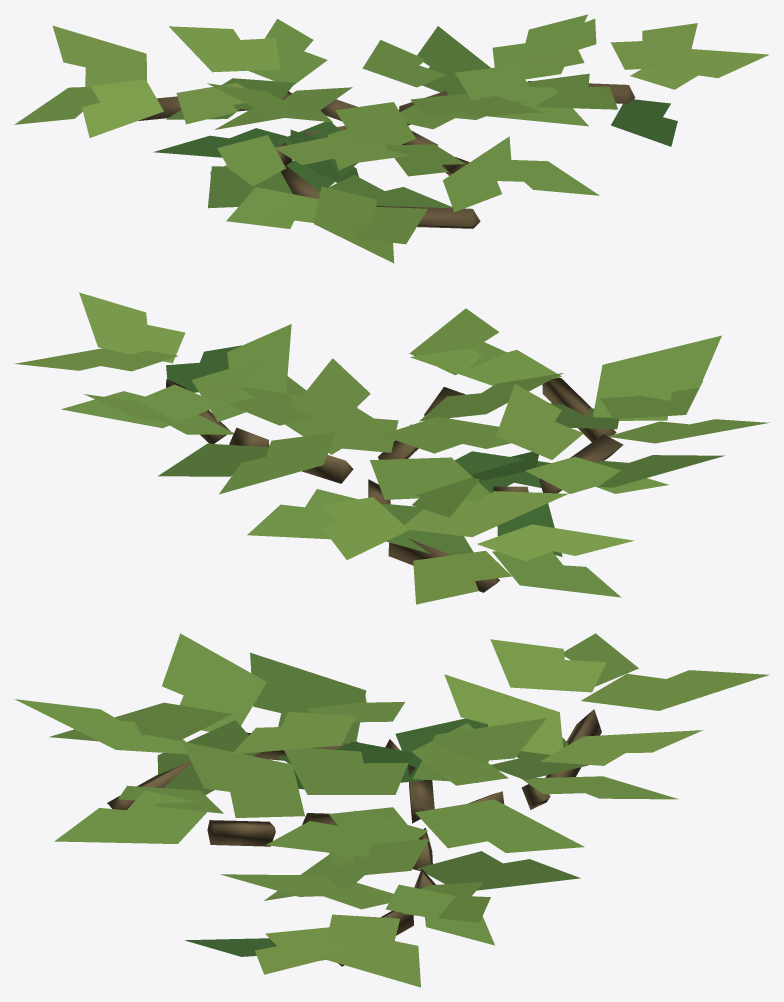
The model's file is leaf_mat_3.glb.
3 views of the same model, one above another, from view 1: azimuth 30°, elevation 25°; view 2: azimuth 150°, elevation 25°; view 3: azimuth 270°, elevation 25° (orthographic). The views are drawn at different scales.
Visible parts, largest first — view 1: leaf_mat_3; view 2: leaf_mat_3; view 3: leaf_mat_3.
Boxes of the visible parts, left/top/right/bottom form: leaf_mat_3: left=14, top=14, right=768, bottom=263; leaf_mat_3: left=14, top=292, right=769, bottom=604; leaf_mat_3: left=14, top=633, right=769, bottom=987.
Size of the model in its own units: 0.4 by 0.03 by 0.35.
2 materials, 2 textured.
